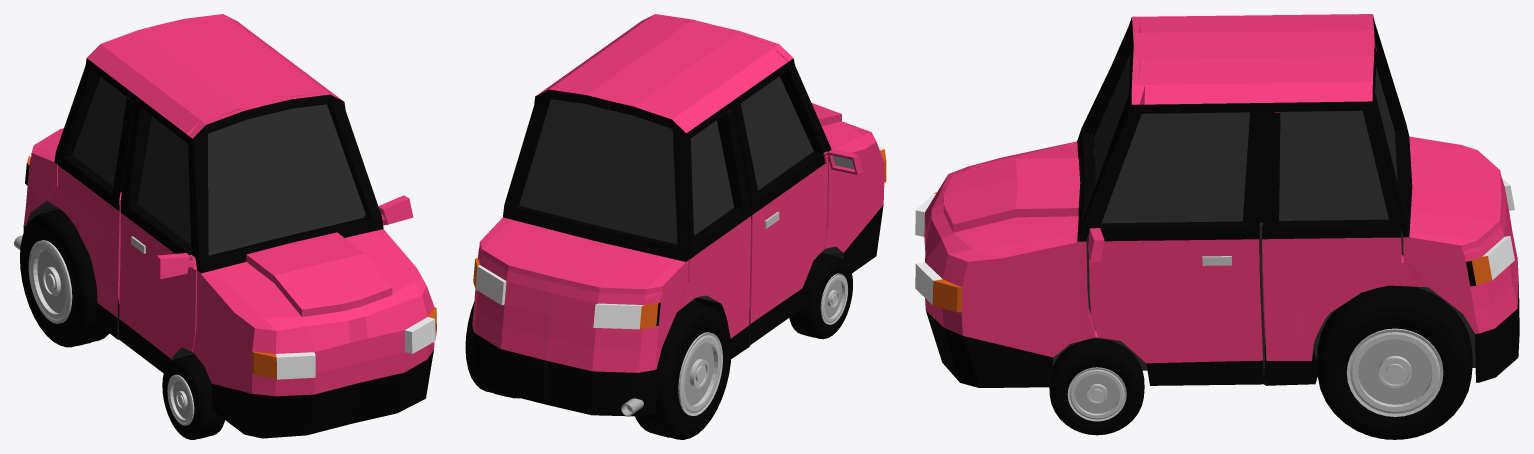
3 renders of one model, left to right at view 1: azimuth 30°, elevation 25°; view 2: azimuth 150°, elevation 25°; view 3: azimuth 270°, elevation 25°, orthographic. The views are drawn at different scales.
Parts seen in each view (by area): view 1: BODY26, WHEEL.002, WHEEL.001; view 2: BODY26, WHEEL.002, WHEEL.001, WHEEL.004; view 3: BODY26, WHEEL.004, WHEEL.003.
Part boxes in pixels (left/top/right/bottom): BODY26: left=23, top=14, right=436, bottom=438; WHEEL.002: left=20, top=209, right=109, bottom=347; WHEEL.001: left=162, top=354, right=224, bottom=439; BODY26: left=471, top=14, right=886, bottom=416; WHEEL.002: left=635, top=301, right=731, bottom=439; WHEEL.001: left=789, top=253, right=852, bottom=339; WHEEL.004: left=465, top=302, right=519, bottom=398; BODY26: left=915, top=14, right=1519, bottom=387; WHEEL.004: left=1317, top=285, right=1472, bottom=439; WHEEL.003: left=1049, top=339, right=1144, bottom=435.
Size of the model in its own units: 136 by 155 by 248.
